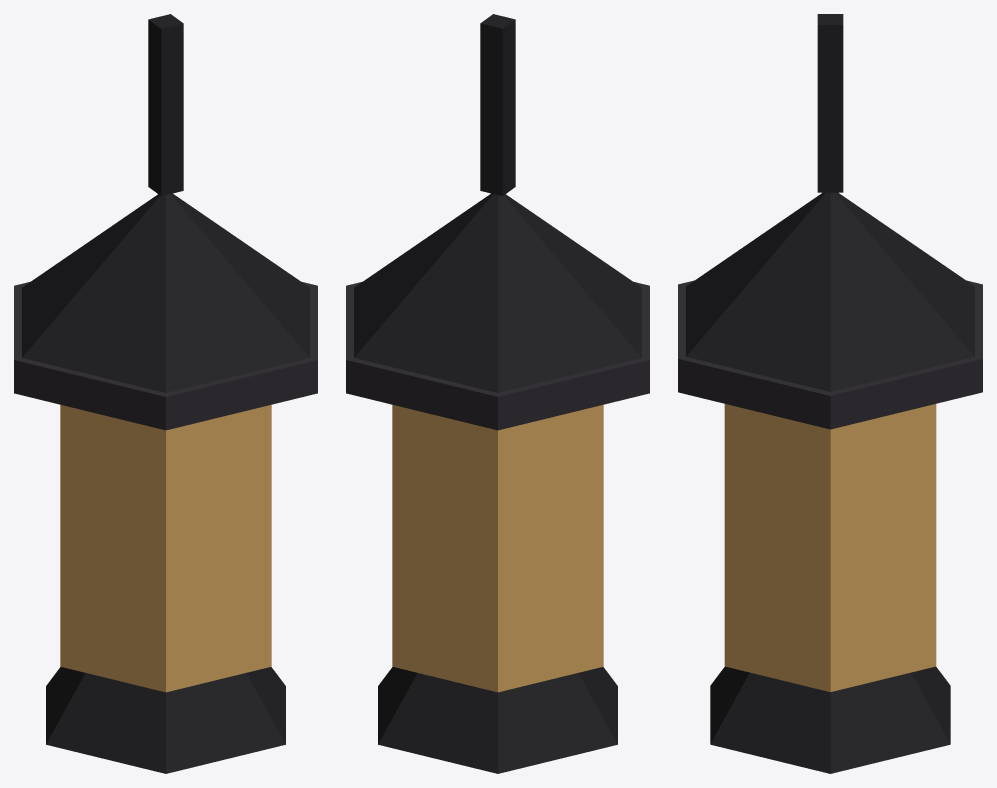
The model's file is festoon-lantern.glb.
3 renders of one model, left to right at view 1: azimuth 30°, elevation 25°; view 2: azimuth 150°, elevation 25°; view 3: azimuth 270°, elevation 25°, orthographic.
Visible parts, largest first — view 1: festoon-lantern; view 2: festoon-lantern; view 3: festoon-lantern.
Boxes of the visible parts, <box> form: festoon-lantern: <box>14,14,317,773</box>; festoon-lantern: <box>346,14,649,773</box>; festoon-lantern: <box>678,14,982,773</box>.
Size of the model in its own units: 0.19 by 0.4145 by 0.1645.
